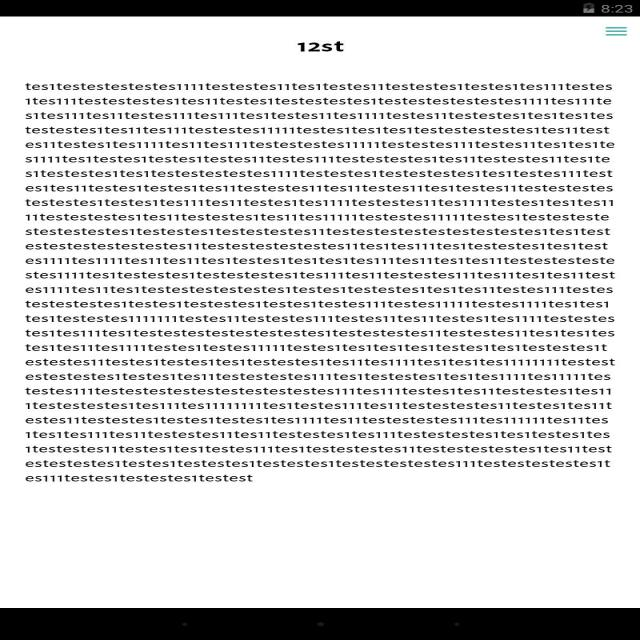button: (600, 18, 637, 43)
heading: (293, 37, 352, 58)
text: (19, 78, 629, 483)
